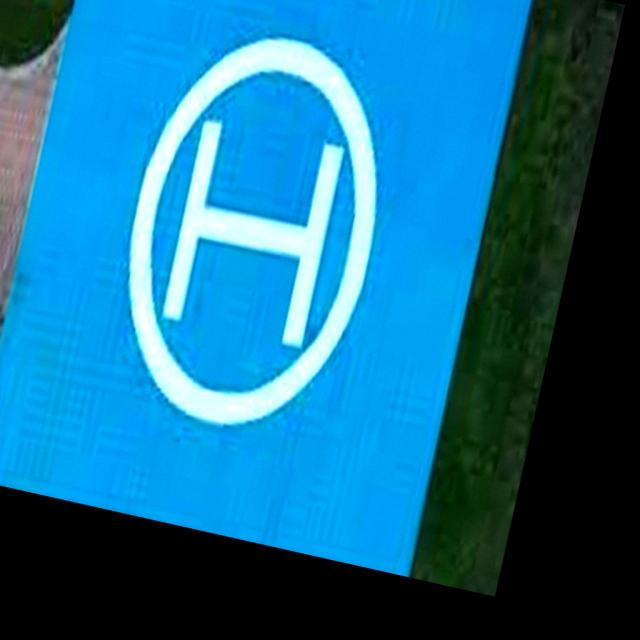helipad: (120, 30, 382, 434)
